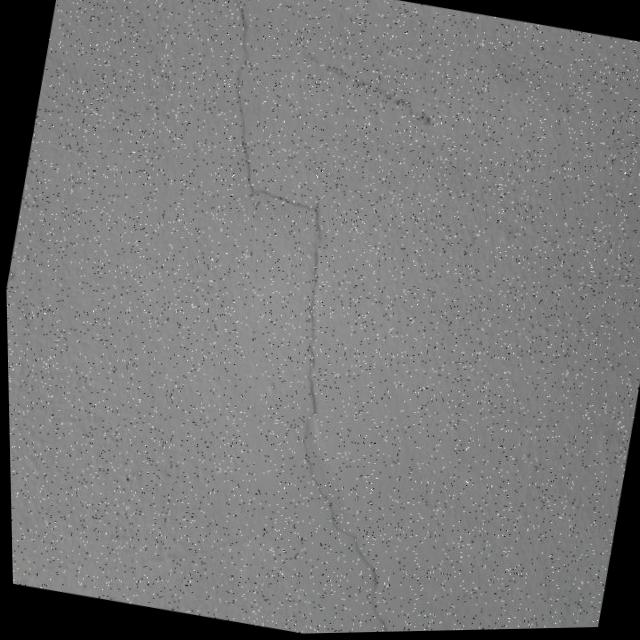Crack: (108, 0, 523, 638)
